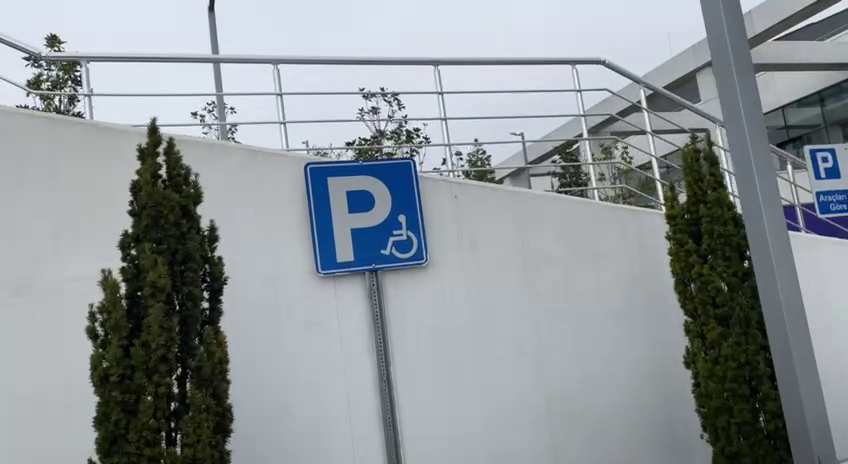parking: (301, 156, 430, 277), (806, 147, 845, 181)
